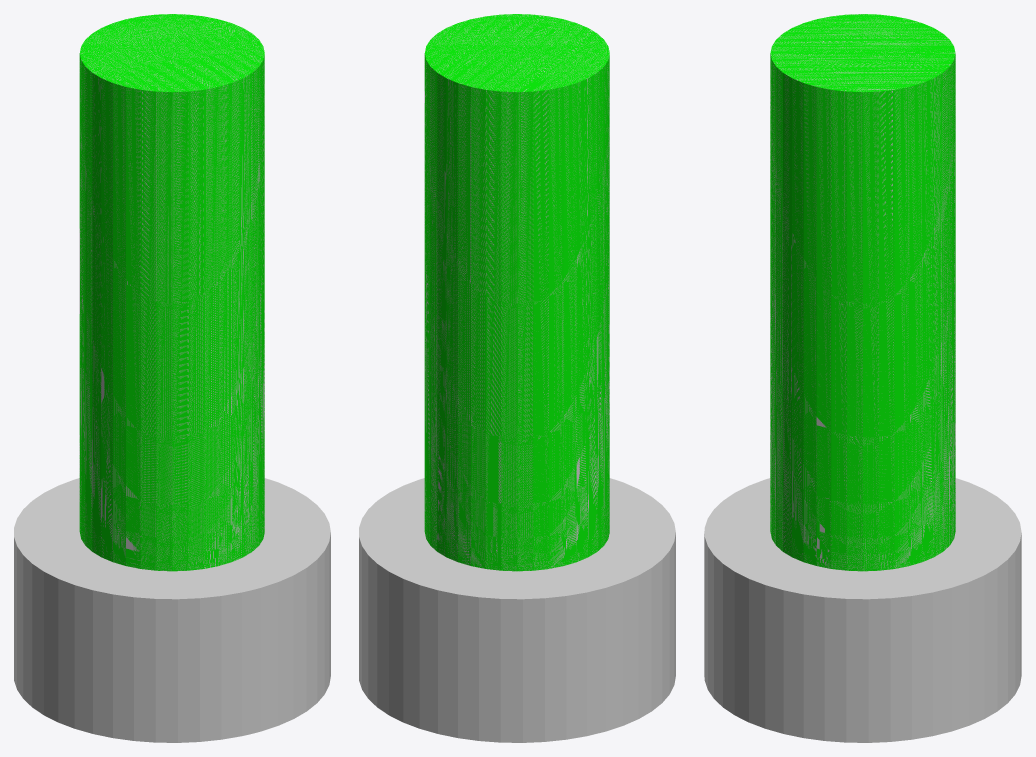
The model's file is totem_green.dae.
3 renders of one model, left to right at view 1: azimuth 30°, elevation 25°; view 2: azimuth 150°, elevation 25°; view 3: azimuth 270°, elevation 25°, orthographic.
Parts seen in each view (by area): view 1: skpB037 (×2); view 2: skpB037 (×3); view 3: skpB037 (×3).
Boxes of the visible parts, left/top/right/bottom form: skpB037 (×2): left=14, top=14, right=330, bottom=742; skpB037 (×3): left=359, top=14, right=675, bottom=742; skpB037 (×3): left=704, top=14, right=1021, bottom=742.
Bounding box in the file's own units: 2.36 × 2.36 × 5.12.
